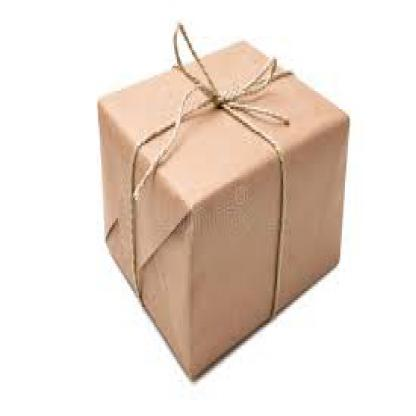paquete: (92, 11, 354, 389)
